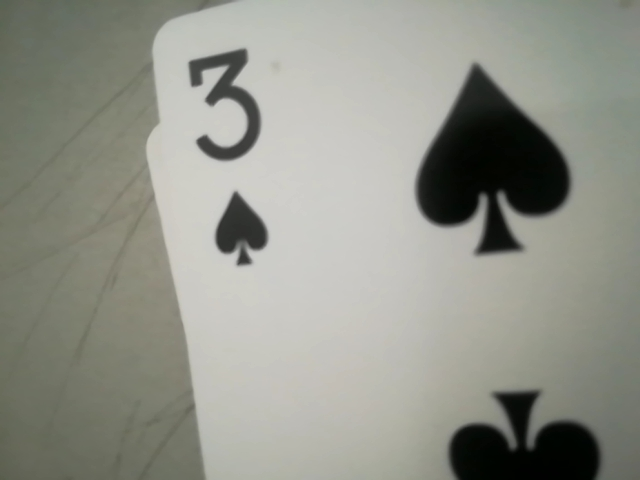ht 3: (180, 39, 274, 282)
